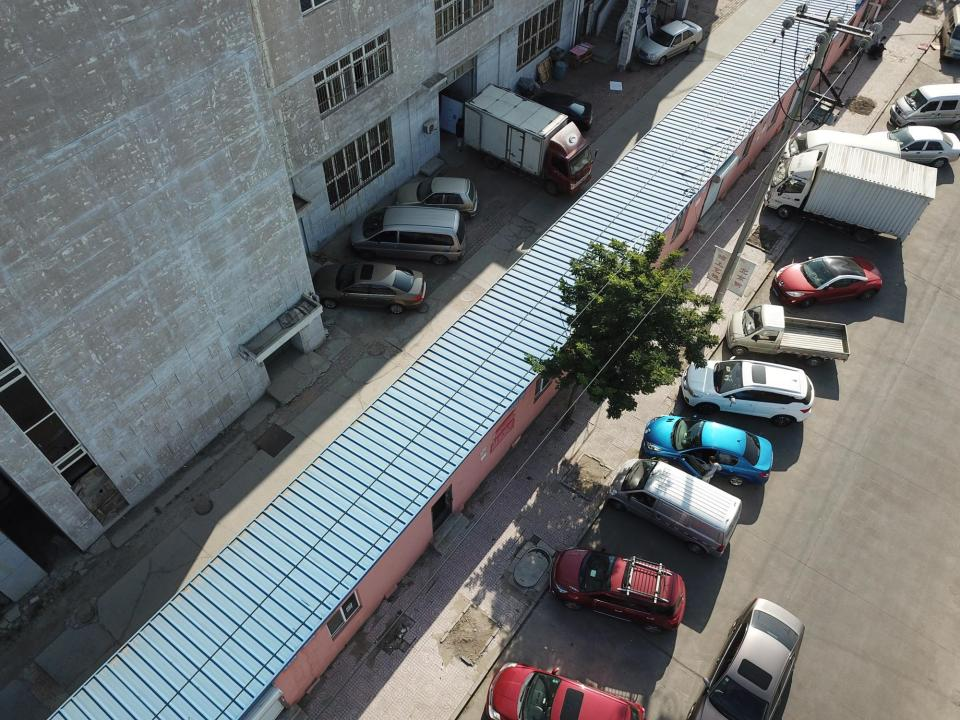car: (687, 596, 805, 720), (552, 544, 687, 634), (642, 414, 775, 486), (484, 660, 648, 718), (681, 360, 815, 427), (309, 261, 428, 314), (771, 253, 882, 308), (858, 126, 958, 169), (396, 176, 478, 220), (634, 20, 703, 66), (512, 92, 593, 131)
truck: (763, 141, 939, 243), (463, 82, 598, 196), (726, 304, 850, 368)
van: (605, 458, 743, 556), (348, 205, 467, 265), (778, 130, 903, 184), (889, 83, 960, 130)
